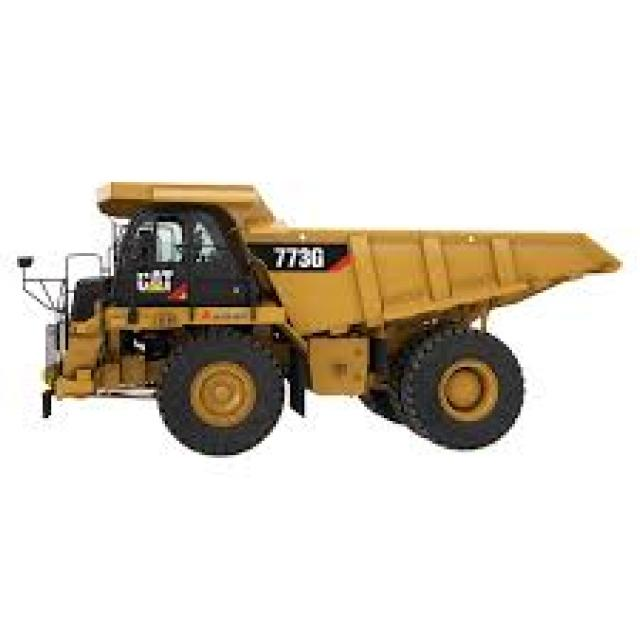dump_truck: (14, 179, 627, 479)
